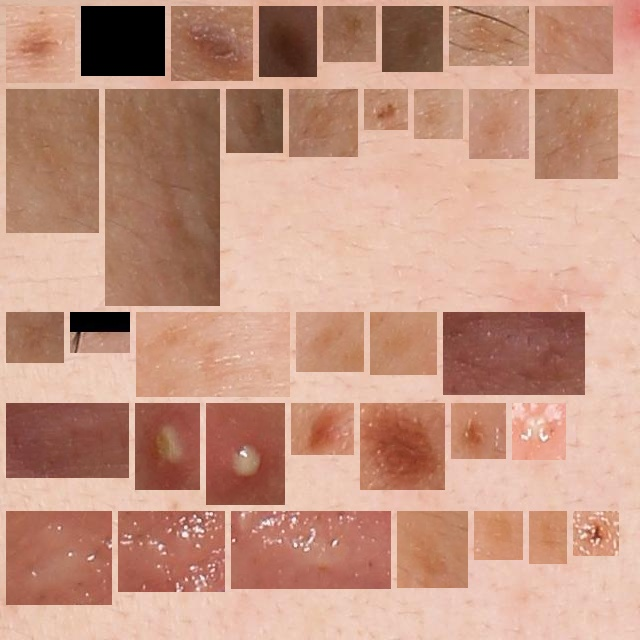hypertrophic_scar: (239, 519, 383, 581), (451, 320, 577, 387), (14, 519, 104, 597), (14, 411, 121, 470), (126, 519, 217, 584)
melasma: (113, 97, 212, 298), (14, 97, 91, 225), (144, 320, 282, 389), (543, 97, 610, 171), (89, 14, 157, 68), (405, 519, 460, 580), (14, 14, 67, 75), (543, 14, 605, 66), (457, 14, 521, 58), (297, 97, 350, 149), (378, 320, 429, 367), (477, 97, 521, 151), (304, 320, 356, 364), (390, 14, 435, 64), (234, 97, 275, 145), (331, 14, 368, 54), (14, 320, 56, 355), (422, 97, 455, 131), (78, 320, 122, 345), (482, 519, 515, 552), (537, 519, 559, 556), (372, 97, 400, 122)
nevus: (368, 411, 437, 482), (179, 14, 245, 73), (267, 14, 309, 69), (299, 411, 346, 447), (459, 411, 498, 451), (581, 519, 611, 548)
pustule: (214, 411, 277, 497), (143, 411, 192, 482), (520, 411, 558, 452)
